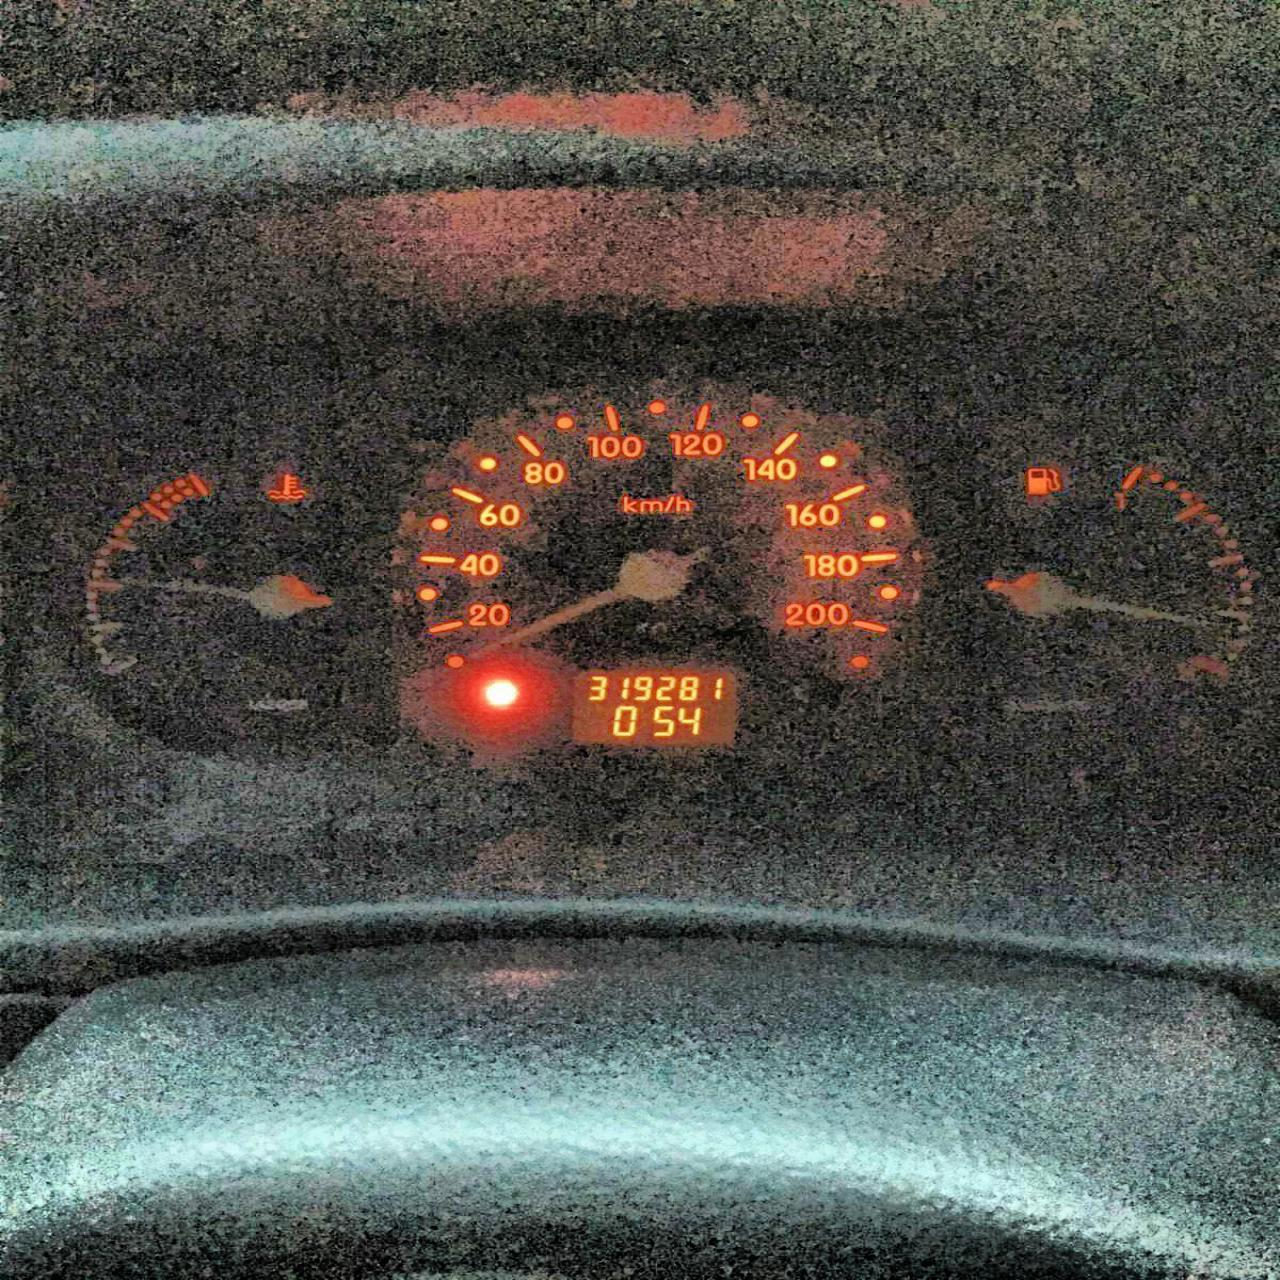0: (611, 704, 636, 736)
1: (713, 676, 723, 699), (620, 676, 629, 700)
2: (654, 675, 675, 700)
3: (588, 675, 607, 700)
4: (676, 707, 700, 734)
5: (652, 704, 674, 736)
8: (678, 675, 699, 700)
9: (633, 675, 652, 700)
odometer: (565, 666, 741, 747)
